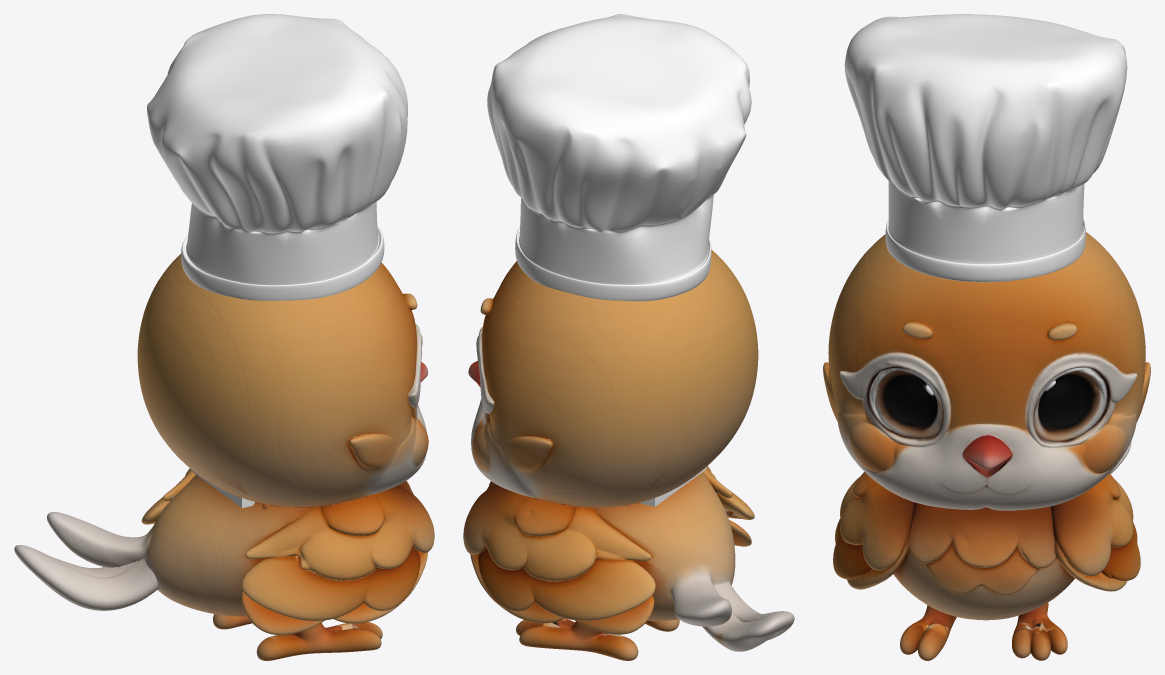
The model's file is birdy_chef_hat.glb.
The picture shows the model from 3 angles, left to right: view 1: azimuth 30°, elevation 25°; view 2: azimuth 150°, elevation 25°; view 3: azimuth 270°, elevation 25°; orthographic projection. The views are drawn at different scales.
Parts seen in each view (by area): view 1: Hat_0, tripo_part_10_Clone, tripo_part_8_Clone, tripo_part_3_Clone, tripo_part_1_Clone, tripo_part_13_Clone, tripo_part_6_Clone, tripo_part_0_Clone, tripo_part_4_Clone; view 2: Hat_0, tripo_part_10_Clone, tripo_part_15_Clone, tripo_part_8_Clone, tripo_part_16_Clone, tripo_part_13_Clone, tripo_part_11_Clone, tripo_part_18_Clone, tripo_part_1_Clone, tripo_part_14_Clone, tripo_part_17_Clone; view 3: Hat_0, tripo_part_10_Clone, tripo_part_7_Clone, tripo_part_4_Clone, tripo_part_14_Clone, tripo_part_15_Clone, tripo_part_8_Clone, tripo_part_3_Clone, tripo_part_11_Clone, tripo_part_16_Clone, tripo_part_6_Clone, tripo_part_1_Clone (+3 smaller).
Boxes of the visible parts, <box> form: Hat_0: <box>147,14,407,300</box>; tripo_part_10_Clone: <box>137,253,426,507</box>; tripo_part_8_Clone: <box>139,475,311,616</box>; tripo_part_3_Clone: <box>245,486,434,580</box>; tripo_part_1_Clone: <box>241,547,428,635</box>; tripo_part_13_Clone: <box>14,512,158,610</box>; tripo_part_6_Clone: <box>256,622,382,660</box>; tripo_part_0_Clone: <box>349,432,394,470</box>; tripo_part_4_Clone: <box>407,324,422,421</box>; Hat_0: <box>487,14,751,301</box>; tripo_part_10_Clone: <box>471,250,758,507</box>; tripo_part_15_Clone: <box>463,485,651,582</box>; tripo_part_8_Clone: <box>596,472,735,621</box>; tripo_part_16_Clone: <box>470,548,655,634</box>; tripo_part_13_Clone: <box>670,564,794,651</box>; tripo_part_11_Clone: <box>516,618,638,660</box>; tripo_part_18_Clone: <box>501,433,553,473</box>; tripo_part_1_Clone: <box>716,489,754,546</box>; tripo_part_14_Clone: <box>476,327,494,427</box>; tripo_part_17_Clone: <box>472,425,490,470</box>; Hat_0: <box>844,14,1127,282</box>; tripo_part_10_Clone: <box>828,232,1145,510</box>; tripo_part_7_Clone: <box>904,502,1055,595</box>; tripo_part_4_Clone: <box>839,350,951,447</box>; tripo_part_14_Clone: <box>1026,352,1137,448</box>; tripo_part_15_Clone: <box>1049,473,1133,575</box>; tripo_part_8_Clone: <box>893,549,1074,620</box>; tripo_part_3_Clone: <box>840,472,914,570</box>; tripo_part_11_Clone: <box>1012,602,1067,660</box>; tripo_part_16_Clone: <box>1053,522,1140,591</box>; tripo_part_6_Clone: <box>900,605,956,660</box>; tripo_part_1_Clone: <box>833,518,901,589</box>.
Bounding box in the file's own units: 0.9294 × 1.43 × 0.7117.
2 materials, 1 textured.
